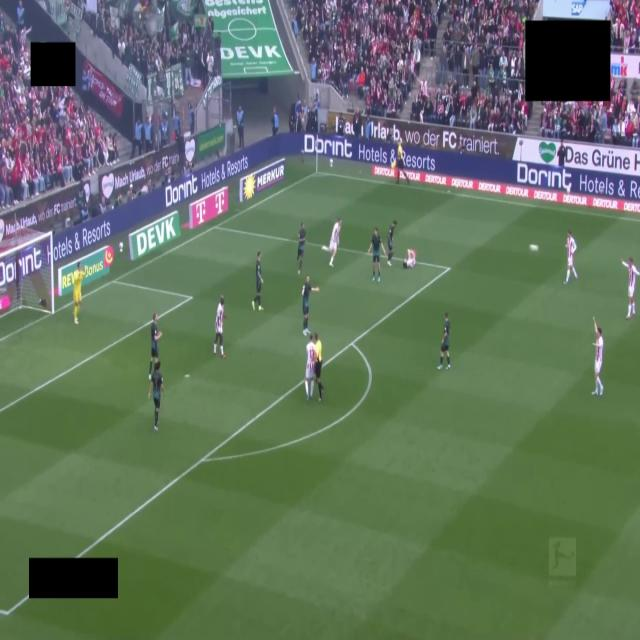ball: (529, 244, 538, 252)
player: (621, 258, 639, 319), (149, 361, 164, 431), (302, 275, 319, 335), (322, 218, 341, 266), (368, 228, 385, 281), (592, 318, 603, 395), (149, 313, 161, 379), (213, 296, 225, 358), (564, 231, 577, 284), (438, 312, 450, 369), (72, 262, 83, 324), (252, 252, 263, 311), (305, 336, 315, 400), (297, 224, 306, 275), (387, 221, 396, 265), (403, 249, 416, 268)
referee: (314, 333, 323, 401)
